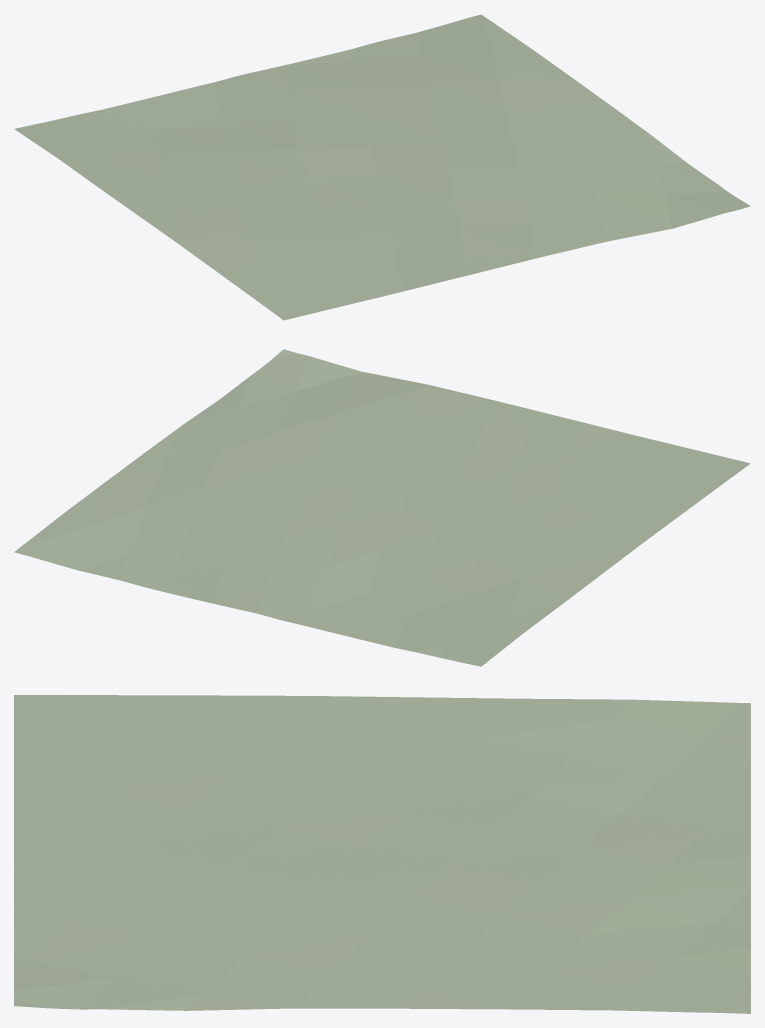
The model's file is SM_MPRR_Terrain_-1_-3.fbx.
3 views of the same model, one above another, from view 1: azimuth 30°, elevation 25°; view 2: azimuth 150°, elevation 25°; view 3: azimuth 270°, elevation 25° (orthographic). The views are drawn at different scales.
Visible parts, largest first — view 1: SM_MPRR_Terrain_-1_-3; view 2: SM_MPRR_Terrain_-1_-3; view 3: SM_MPRR_Terrain_-1_-3.
Boxes of the visible parts, left/top/right/bottom form: SM_MPRR_Terrain_-1_-3: left=14, top=14, right=750, bottom=320; SM_MPRR_Terrain_-1_-3: left=14, top=349, right=750, bottom=666; SM_MPRR_Terrain_-1_-3: left=14, top=695, right=750, bottom=1013.
Size of the model in its own units: 15000 by 15000 by 276.
